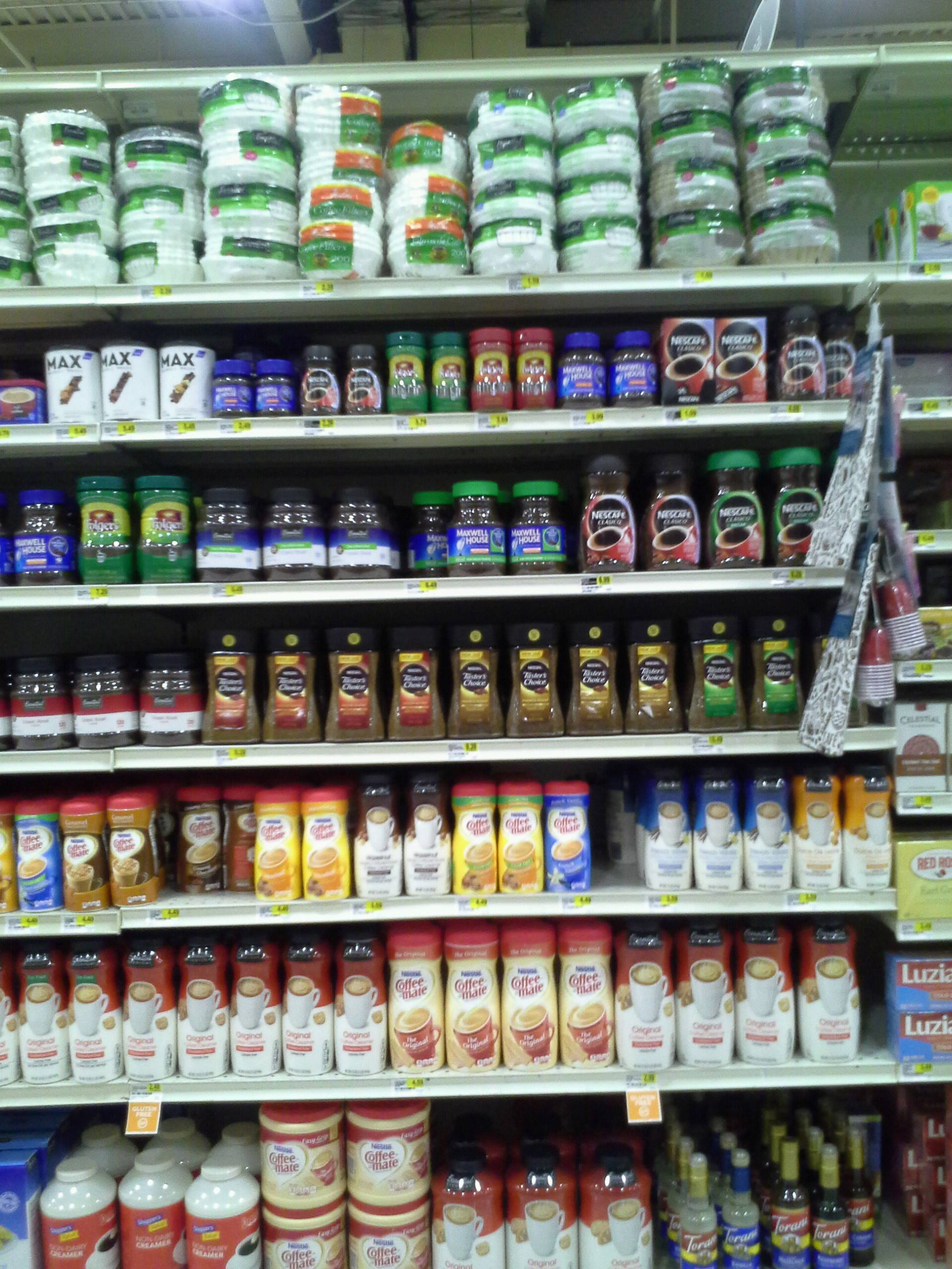Bottle: (851, 1119, 891, 1269), (683, 1141, 728, 1269), (771, 1133, 811, 1269), (730, 1136, 766, 1269), (815, 1132, 850, 1266)
Jar: (12, 1145, 113, 1269), (501, 1138, 572, 1269), (263, 1102, 338, 1217), (505, 922, 560, 1078), (351, 1102, 428, 1212), (583, 1137, 647, 1269), (745, 912, 796, 1073), (430, 1145, 496, 1269), (807, 920, 861, 1071), (392, 916, 440, 1080), (452, 917, 500, 1079), (235, 923, 285, 1077), (118, 1148, 182, 1268), (128, 924, 176, 1082), (74, 928, 122, 1082), (563, 921, 611, 1073), (287, 928, 334, 1083), (179, 928, 227, 1079), (385, 621, 444, 743), (112, 782, 164, 917), (688, 606, 742, 735), (625, 921, 671, 1072), (705, 441, 759, 569), (338, 921, 382, 1074), (22, 934, 65, 1089), (688, 920, 733, 1067), (642, 446, 696, 568), (190, 1161, 255, 1262), (327, 626, 383, 741), (263, 626, 317, 745), (7, 644, 66, 751), (578, 448, 627, 575), (626, 615, 678, 734), (693, 756, 738, 893), (508, 621, 561, 737), (570, 615, 621, 733), (452, 621, 502, 739), (774, 441, 822, 563), (261, 488, 323, 582), (331, 484, 394, 576), (169, 782, 217, 902), (134, 472, 186, 582), (844, 761, 889, 888), (206, 630, 257, 742), (751, 609, 797, 733), (356, 767, 399, 898), (449, 475, 504, 577), (197, 488, 256, 583), (63, 793, 106, 922), (80, 470, 128, 584), (405, 762, 444, 897), (136, 650, 192, 744), (257, 780, 300, 902), (80, 652, 137, 744), (303, 779, 346, 900), (645, 762, 685, 890), (13, 489, 66, 585), (500, 774, 543, 892), (796, 758, 834, 891), (12, 794, 53, 916), (510, 477, 561, 575), (454, 776, 495, 896), (745, 762, 782, 894), (547, 775, 587, 893), (665, 317, 717, 404), (104, 337, 156, 422), (609, 323, 657, 413), (161, 339, 214, 420), (718, 316, 766, 405), (49, 343, 99, 426), (222, 782, 255, 898), (783, 304, 820, 403), (408, 489, 448, 578), (560, 328, 606, 402), (516, 322, 552, 409), (429, 326, 464, 411), (476, 325, 510, 411), (388, 331, 423, 412), (302, 338, 340, 412), (344, 338, 381, 412), (213, 357, 251, 419), (831, 312, 856, 400), (0, 376, 41, 429), (258, 356, 294, 412)
